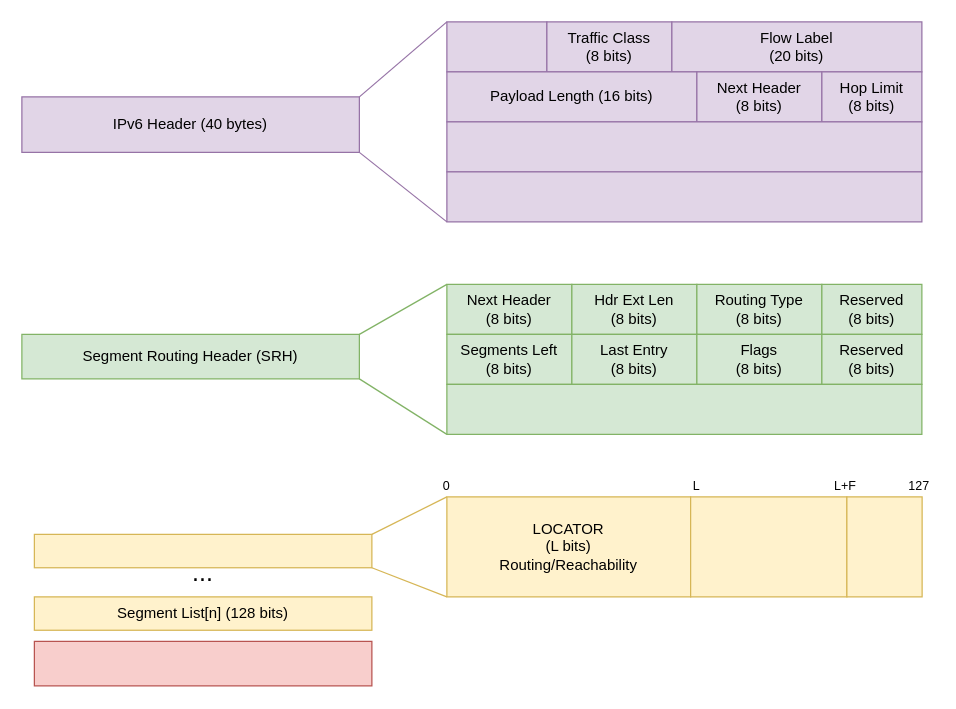
Image size: 956x709. Some labels were removed from this diagram. The centre of each missing label's shape, as x and y in pixels:
"ARGUMENT (A bits) Metadata" belongs at pixel 884 546.
"Destination Address (128 bits)" belongs at pixel 684 196.
"FUNCTION (F bits) Local Behavior" belongs at pixel 768 546.
"Payload" belongs at pixel 202 663.
"Segment List[0] (128 bits)" belongs at pixel 202 550.
"Source Address (128 bits)" belongs at pixel 684 146.
"Tag (16 bits)" belongs at pixel 684 408.
"Version (4 bits)" belongs at pixel 496 46.
